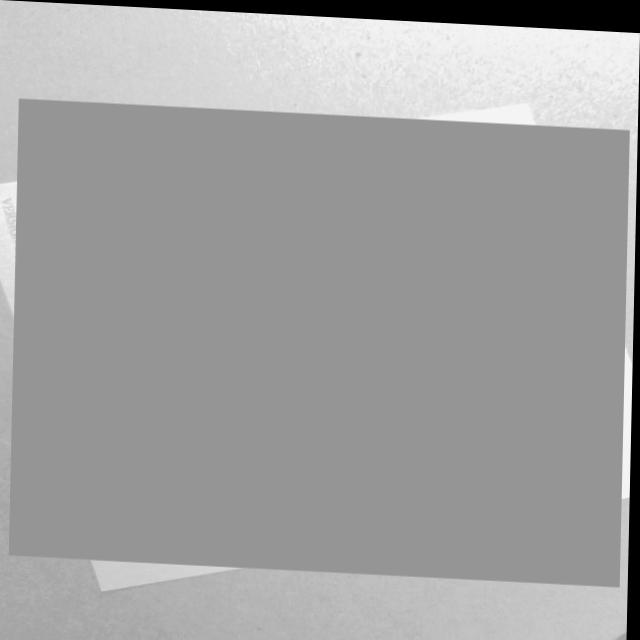qr_code: (11, 99, 630, 580)
